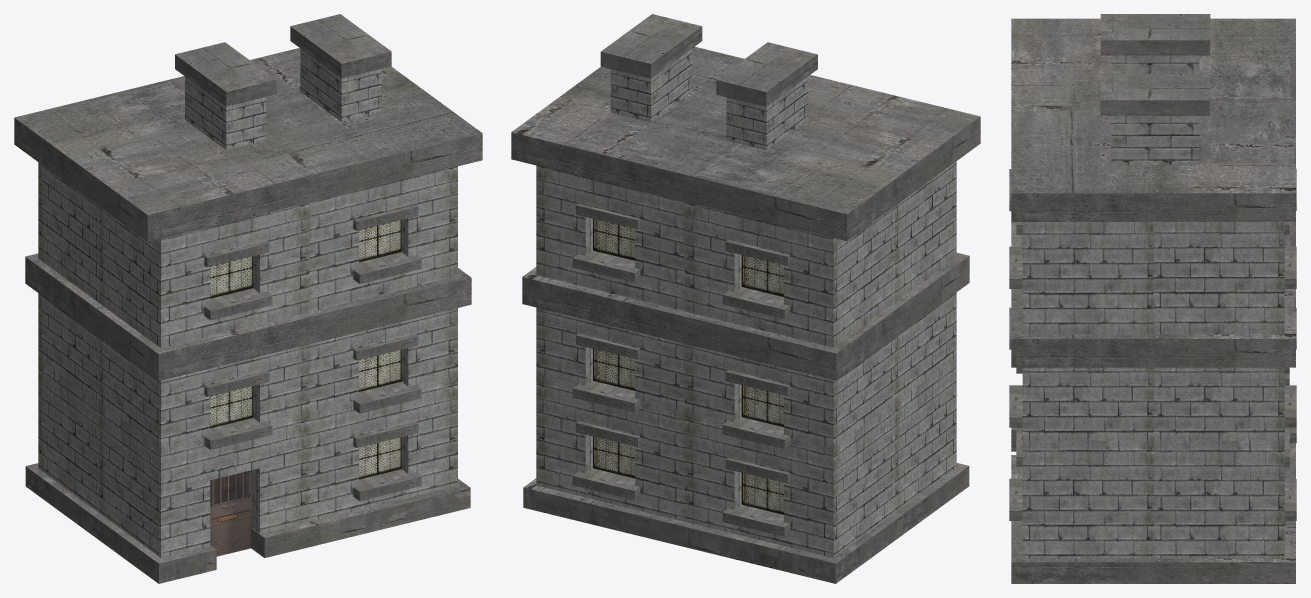
File: Building01C2.fbx
3 views of the same model, side by side, from view 1: azimuth 30°, elevation 25°; view 2: azimuth 150°, elevation 25°; view 3: azimuth 270°, elevation 25° (orthographic). The views are drawn at different scales.
Parts seen in each view (by area): view 1: UB; view 2: UB; view 3: UB.
Part boxes in pixels (left/top/right/bottom): UB: left=14, top=14, right=482, bottom=583; UB: left=511, top=14, right=980, bottom=583; UB: left=1009, top=14, right=1296, bottom=583.
Bounding box in the file's own units: 5.58 × 6.92 × 3.87.
